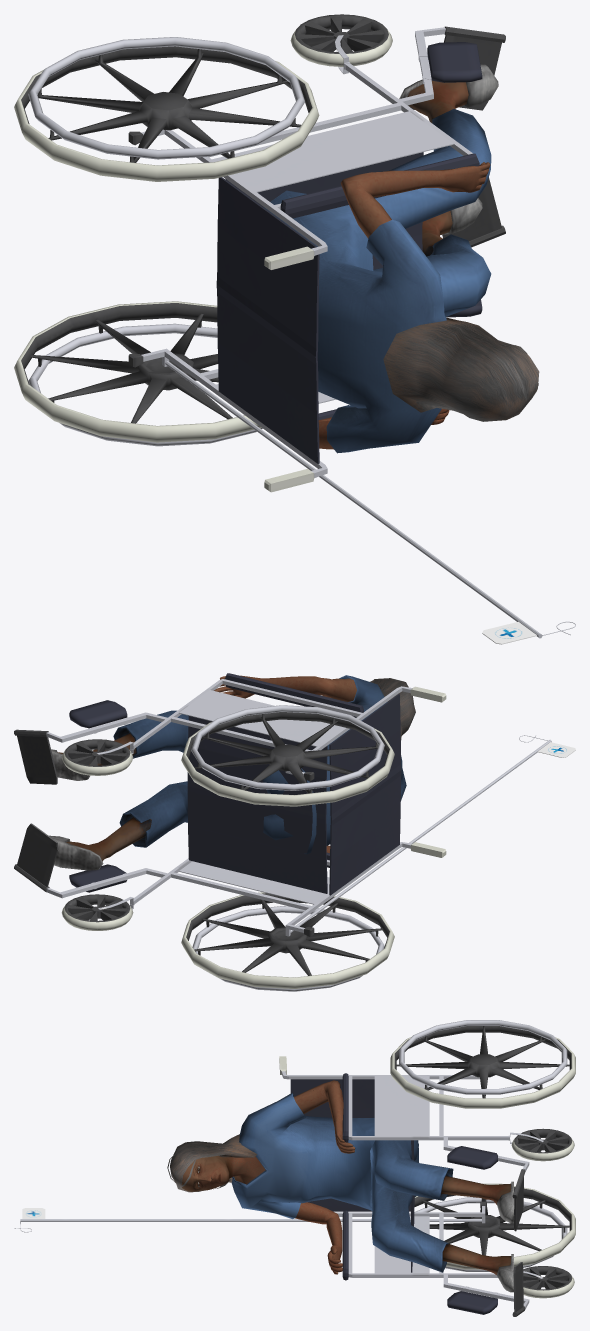
The model's file is PatientWheelChair.obj.
3 renders of one model, top to bottom at view 1: azimuth 30°, elevation 25°; view 2: azimuth 150°, elevation 25°; view 3: azimuth 270°, elevation 25°, orthographic. The views are drawn at different scales.
Visible parts, largest first — view 1: PatientWheelChair; view 2: PatientWheelChair; view 3: PatientWheelChair.
Boxes of the visible parts, x1,y1,x2,y2 form: PatientWheelChair: (14,14,575,644); PatientWheelChair: (14,673,575,991); PatientWheelChair: (14,1020,575,1316).
Size of the model in its own units: 1.12 by 0.6375 by 1.78.
1 material, 1 textured.
